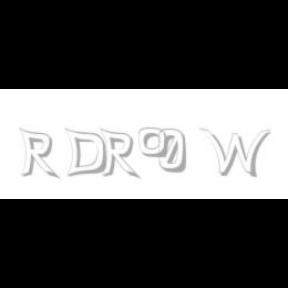0: (158, 128, 189, 174)
D: (64, 128, 106, 178)
R: (19, 128, 57, 180), (100, 128, 138, 180)
W: (199, 128, 271, 178)
o: (138, 128, 168, 158)
